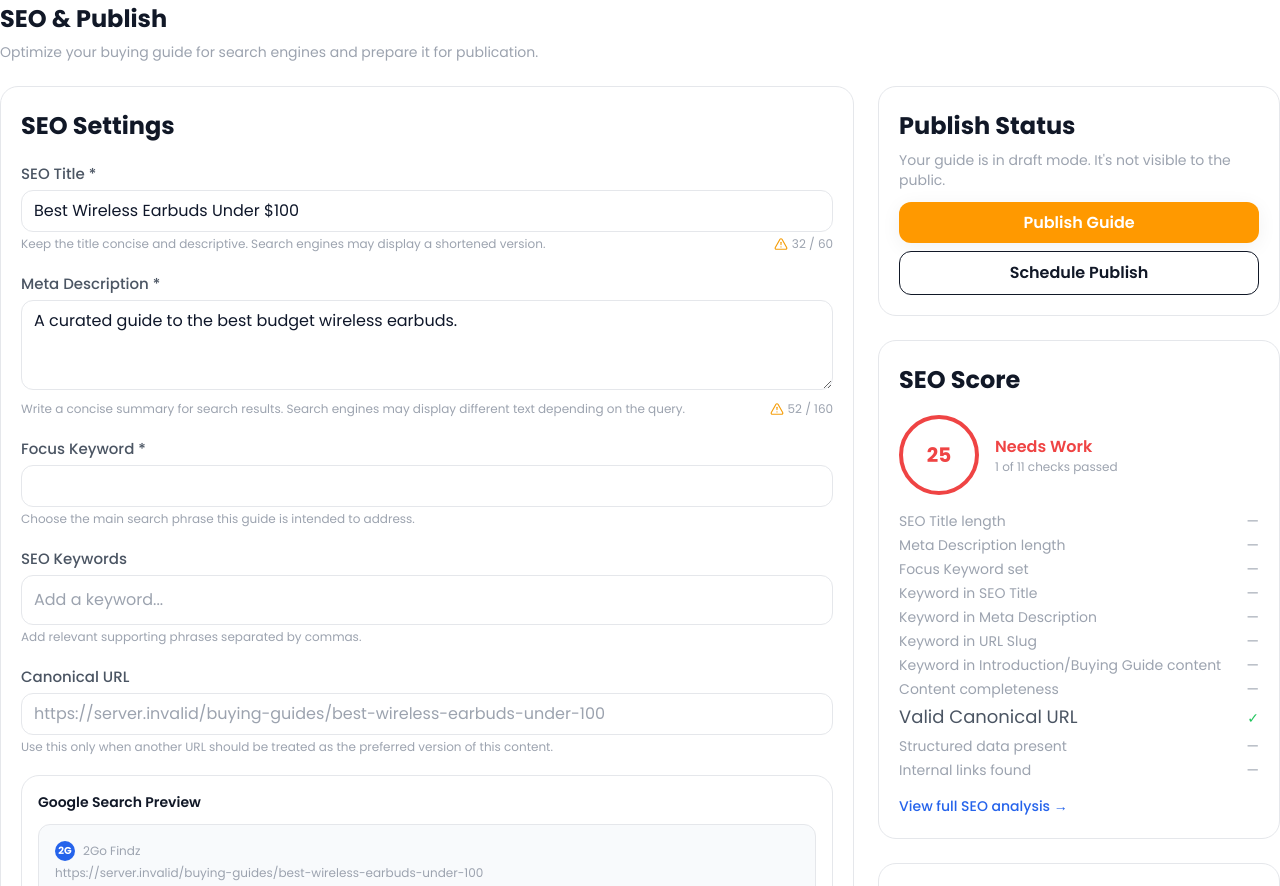
Test case: BuyingGuideSeoPublishStep › opens the full SEO analysis dialog from the score card
Click the button "View full SEO analysis →". click: coordinates (983, 806)
box: [899,796,1068,816]
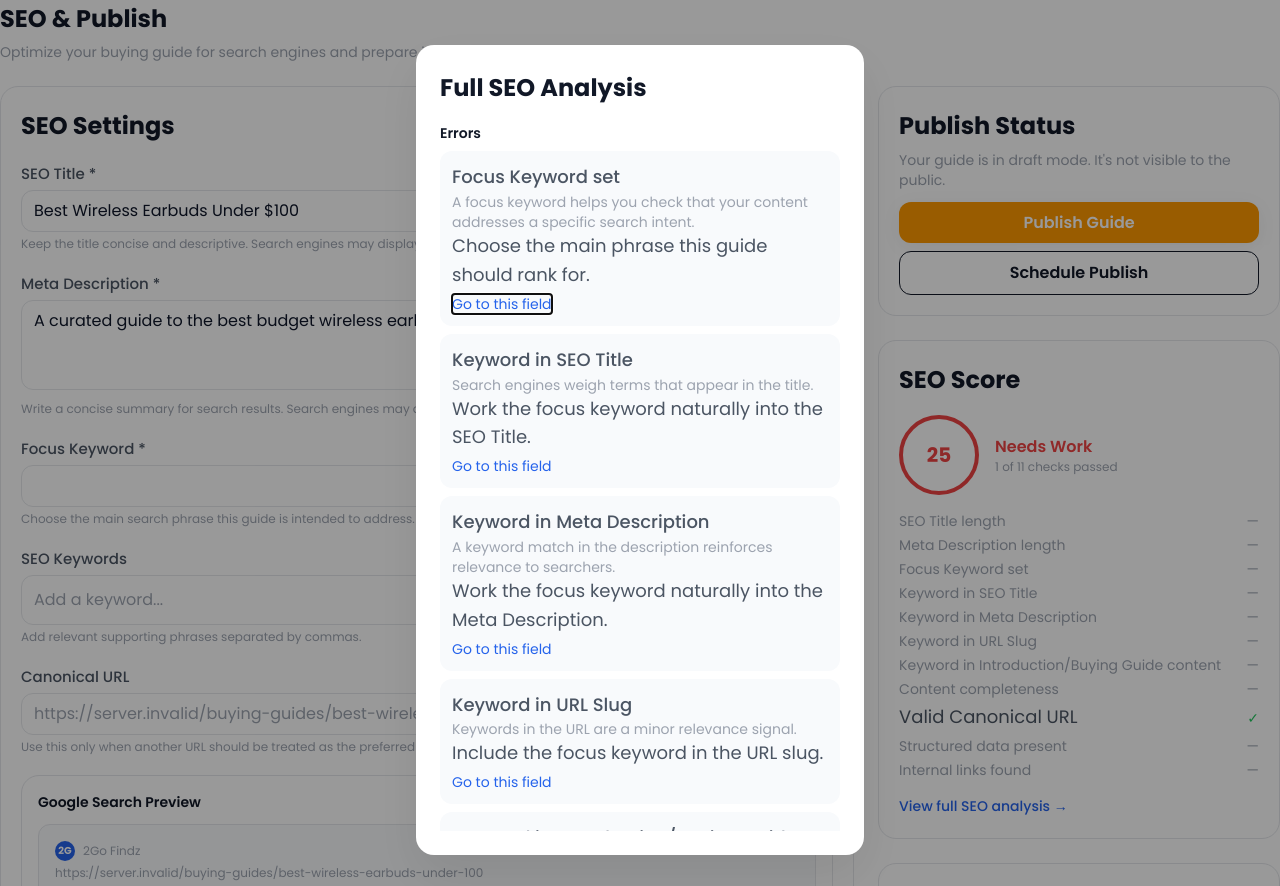
Expected: the heading "Full SEO Analysis" is shown, [440,71,646,104]
